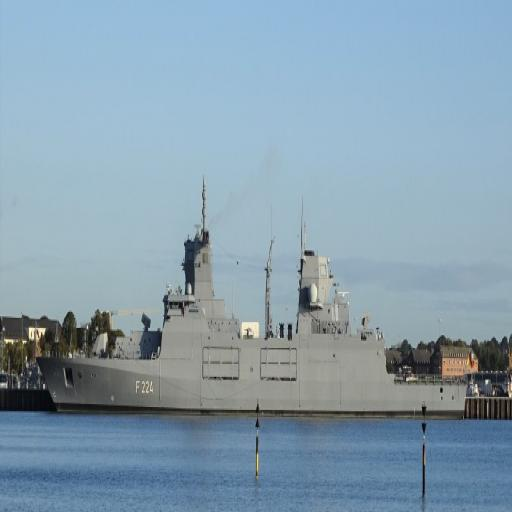Fragata: (34, 168, 477, 419)
